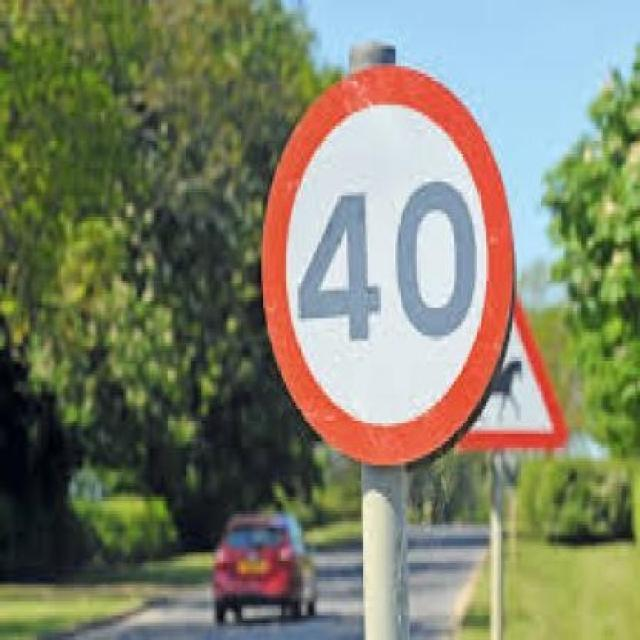forb_speed_over_40: (265, 65, 508, 462)
